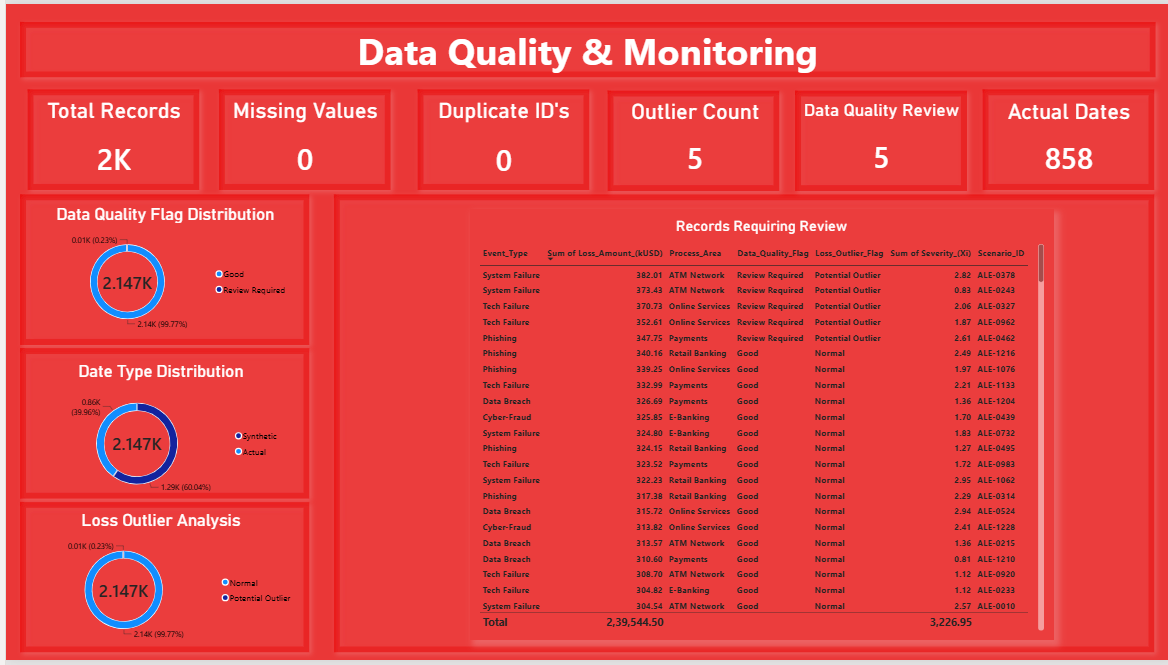

The page's visual inventory and layout, read from the dashboard file:
{"tool":"powerbi","page":{"name":"Data Quality & Monitoring","canvas":[1920,1080],"ordinal":2},"visuals":[{"type":"shape","box":[526.9,300.5,1377,780.1],"z":0},{"type":"shape","box":[10.3,806.9,502.2,273.8],"z":1000},{"type":"shape","box":[10.3,553.7,502.2,273.8],"z":2000},{"type":"shape","box":[1595.2,128,308.7,191.4],"z":3000},{"type":"shape","box":[1286.5,130.1,308.7,191.4],"z":4000},{"type":"shape","box":[977.7,130.1,308.7,191.4],"z":5000},{"type":"shape","box":[664.8,128,308.7,191.4],"z":6000},{"type":"shape","box":[337.6,128,308.7,191.4],"z":7000},{"type":"shape","box":[10.3,16.5,1895.7,117.3],"z":8000},{"type":"shape","box":[22.6,127.6,308.7,191.4],"z":9000},{"type":"shape","box":[10.3,300.9,502.2,273.8],"z":10000},{"type":"cardVisual","title":"Total Records","fields":{"Data":["Operational_Risk_Events_clean.Total records"]},"box":[45.3,154.4,265.5,142],"z":11000},{"type":"cardVisual","title":"Missing Values","fields":{"Data":["Operational_Risk_Events_clean.Missing_Values"]},"box":[370.5,154.4,244.9,142],"z":12000},{"type":"cardVisual","title":"Duplicate ID''s","fields":{"Data":["Operational_Risk_Events_clean.Duplicate_Scenario_IDs"]},"box":[703.9,154.4,232.6,144.1],"z":13000},{"type":"cardVisual","title":"Outlier Count ","fields":{"Data":["Operational_Risk_Events_clean.Loss_Outlier_Count"]},"box":[1014.8,156.4,240.8,133.8],"z":14000},{"type":"cardVisual","title":"Data Quality Review","fields":{"Data":["Operational_Risk_Events_clean.Data Quality Issues"]},"box":[1300.9,156.4,282,140],"z":15000},{"type":"cardVisual","title":"Actual Dates","fields":{"Data":["Operational_Risk_Events_clean.Actual Date Records"]},"box":[1617.8,156.4,265.5,133.8],"z":16000},{"type":"donutChart","title":"Data Quality Flag Distribution","fields":{"Category":["Operational_Risk_Events_clean.Data_Quality_Flag"],"Y":["CountNonNull(Operational_Risk_Events_clean.Scenario_ID)"]},"box":[39.1,315.3,446.7,238.8],"z":17000},{"type":"donutChart","title":"Date Type Distribution","fields":{"Category":["Operational_Risk_Events_clean.Date_type"],"Y":["CountNonNull(Operational_Risk_Events_clean.Scenario_ID)"]},"box":[39.1,574.3,432.2,253.2],"z":18000},{"type":"donutChart","title":"Loss Outlier Analysis","fields":{"Category":["Operational_Risk_Events_clean.Loss_Outlier_Flag"],"Y":["CountNonNull(Operational_Risk_Events_clean.Scenario_ID)"]},"box":[16.5,819.2,477.5,244.9],"z":19000},{"type":"tableEx","title":"Records Requiring Review","fields":{"Values":["Operational_Risk_Events_clean.Event_Type","Sum(Operational_Risk_Events_clean.Loss_Amount_(kUSD))","Operational_Risk_Events_clean.Process_Area","Operational_Risk_Events_clean.Data_Quality_Flag","Operational_Risk_Events_clean.Loss_Outlier_Flag","Sum(Operational_Risk_Events_clean.Severity_(Xi))","Operational_Risk_Events_clean.Scenario_ID"]},"box":[763.6,337.6,961.2,710.1],"z":20000}]}

Visuals, with their boxes in screenshot pixels (x1, y1, x2, y2), scaled from the page's 1920x1080 canvas onto the 1168x665 screenshot:
shape: crop(321, 185, 1158, 664)
shape: crop(6, 497, 312, 664)
shape: crop(6, 341, 312, 510)
shape: crop(970, 79, 1158, 197)
shape: crop(783, 80, 970, 198)
shape: crop(595, 80, 783, 198)
shape: crop(404, 79, 592, 197)
shape: crop(205, 79, 393, 197)
shape: crop(6, 10, 1159, 82)
shape: crop(14, 79, 202, 196)
shape: crop(6, 185, 312, 354)
"Total Records" cardVisual: crop(28, 95, 189, 183)
"Missing Values" cardVisual: crop(225, 95, 374, 183)
"Duplicate ID''s" cardVisual: crop(428, 95, 570, 184)
"Outlier Count " cardVisual: crop(617, 96, 764, 179)
"Data Quality Review" cardVisual: crop(791, 96, 963, 183)
"Actual Dates" cardVisual: crop(984, 96, 1146, 179)
"Data Quality Flag Distribution" donutChart: crop(24, 194, 296, 341)
"Date Type Distribution" donutChart: crop(24, 354, 287, 510)
"Loss Outlier Analysis" donutChart: crop(10, 504, 301, 655)
"Records Requiring Review" tableEx: crop(465, 208, 1049, 645)
